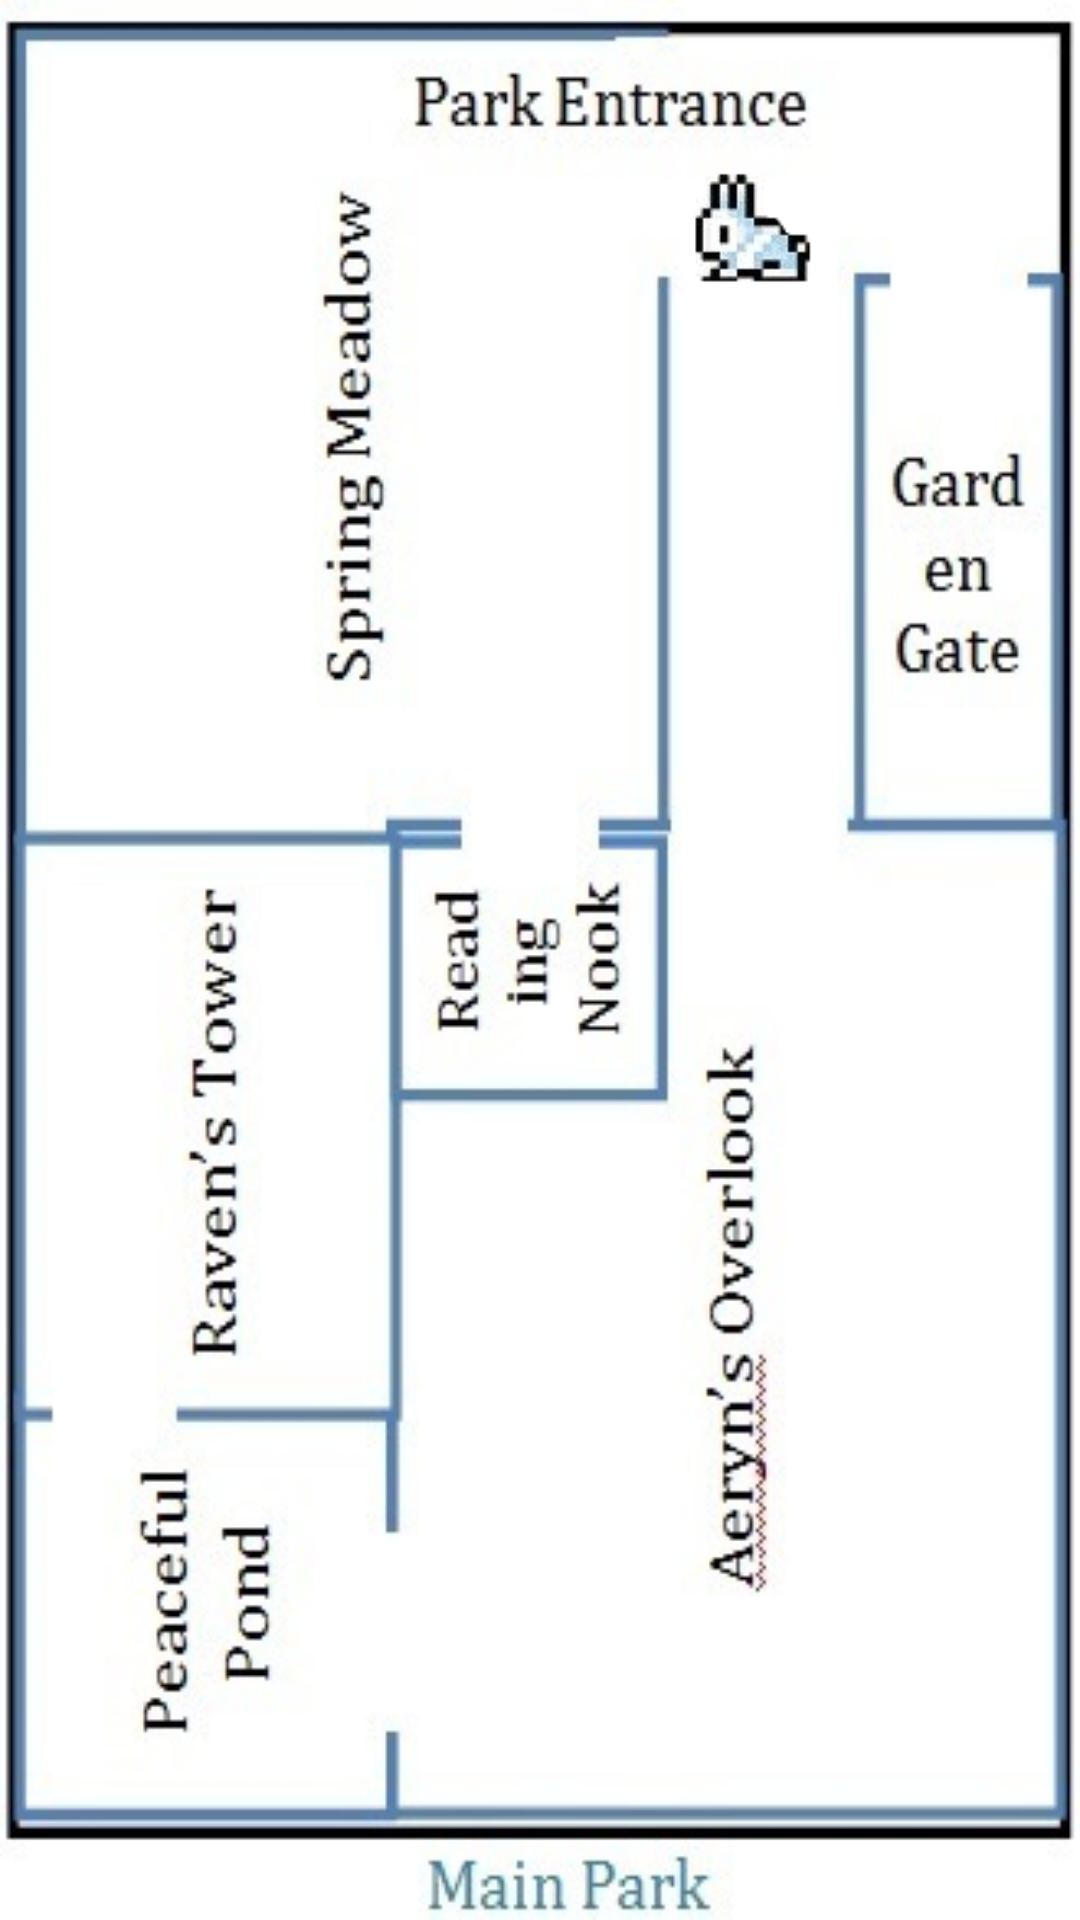

Where icons sit on this 1080 × 1920 app screen, as (x1, y1, x2, y2):
Terraria Bunny: (695, 173, 811, 282)
